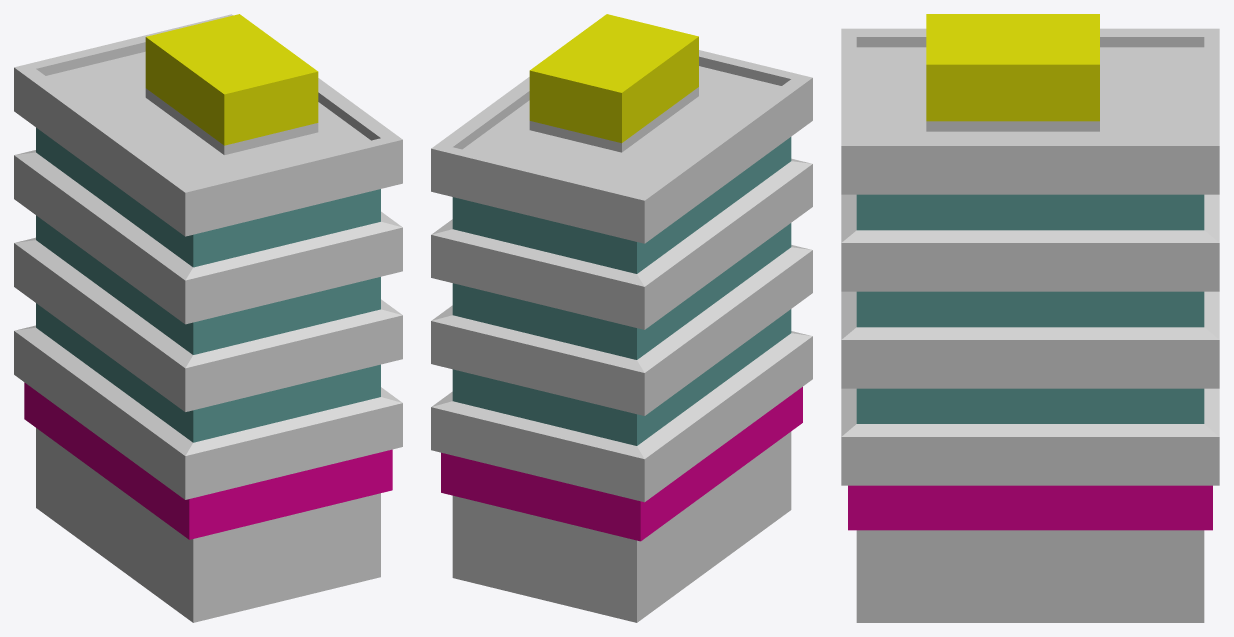
File: MM_house_07b.fbx
3 views of the same model, side by side, from view 1: azimuth 30°, elevation 25°; view 2: azimuth 150°, elevation 25°; view 3: azimuth 270°, elevation 25° (orthographic). The views are drawn at different scales.
Visible parts, largest first — view 1: pCube1; view 2: pCube1; view 3: pCube1.
Part boxes in pixels (left/top/right/bottom): pCube1: left=14, top=14, right=402, bottom=622; pCube1: left=431, top=14, right=812, bottom=622; pCube1: left=841, top=14, right=1219, bottom=622.
Size of the model in its own units: 15.12 by 32.55 by 20.62.
